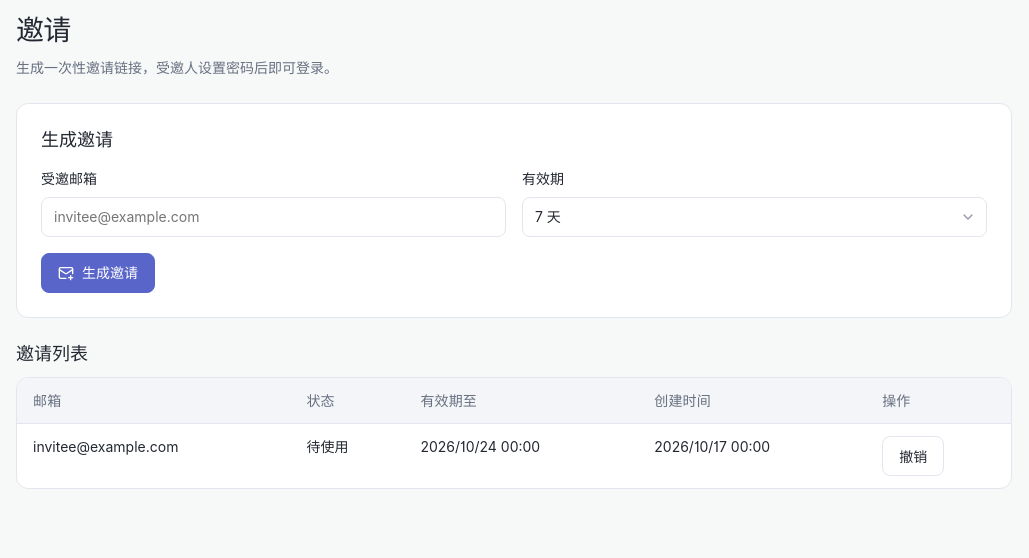
Test: AdminInvitesPage › revokes a pending invite in place
Check: the text "invitee@example.com" is shown, box [17,424,290,488]
Click the button "撤销".
click(913, 456)  # box [882,436,944,476]
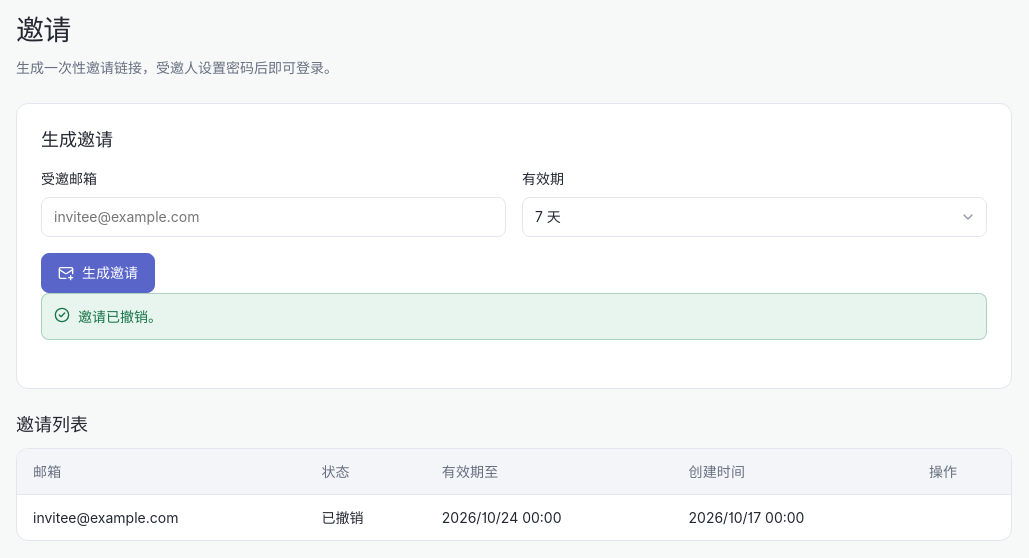
Check: the text "已撤销" is shown, box [306,495,426,540]
